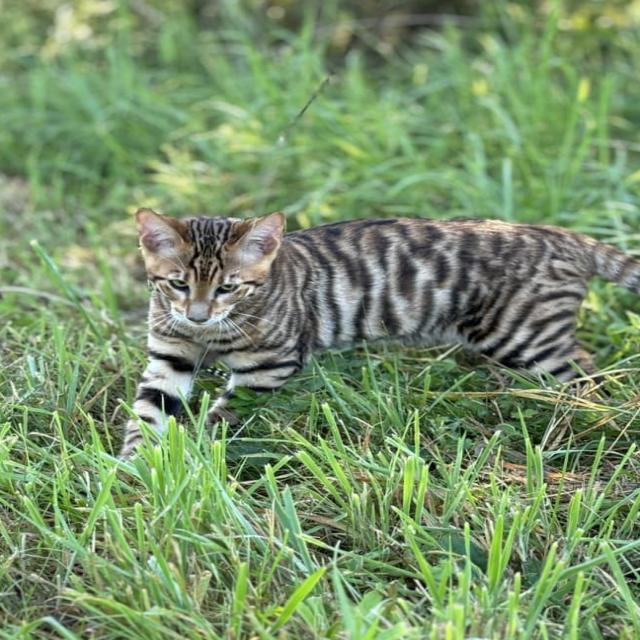Toyger: (113, 202, 640, 476)
